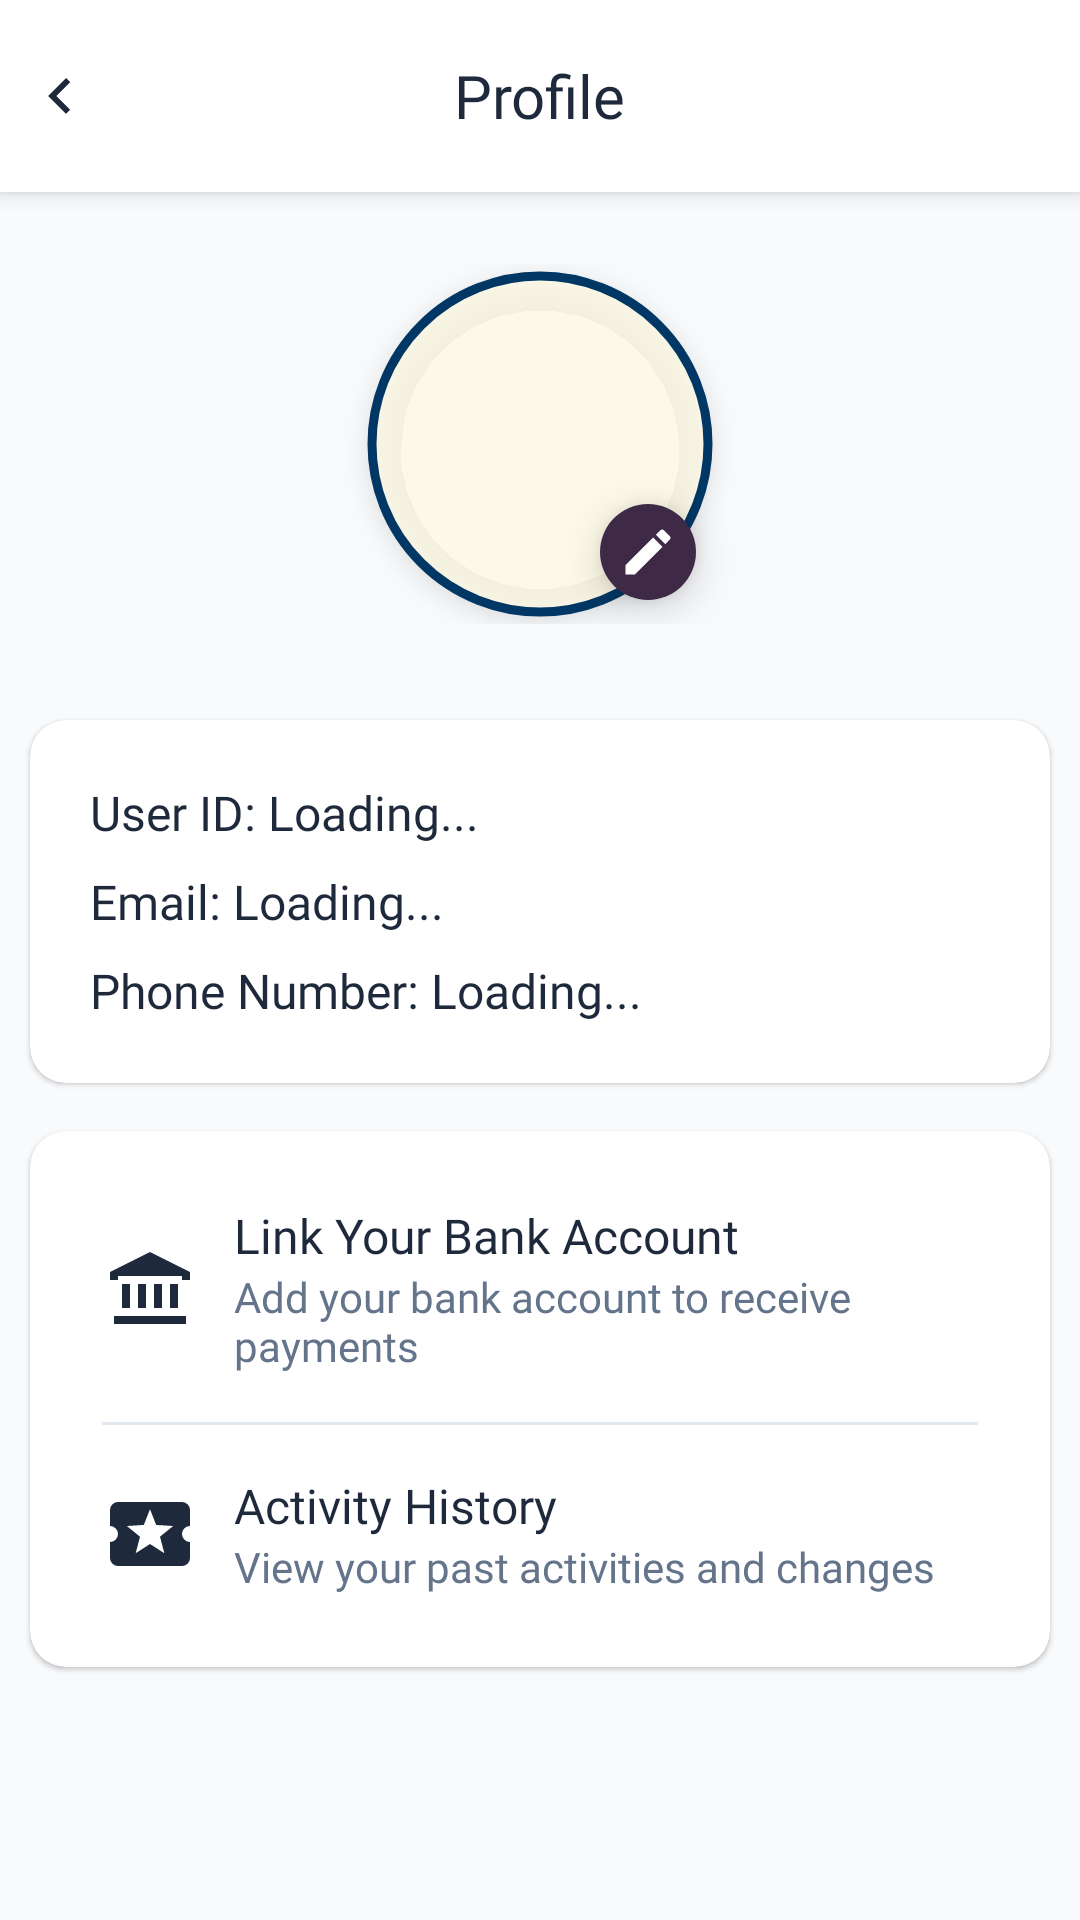

Where icons sit on this 1080×1920 app screen, as (x1, y1, x2, y2):
Back: (48, 78, 70, 114)
Edit Profile: (600, 504, 696, 600)
